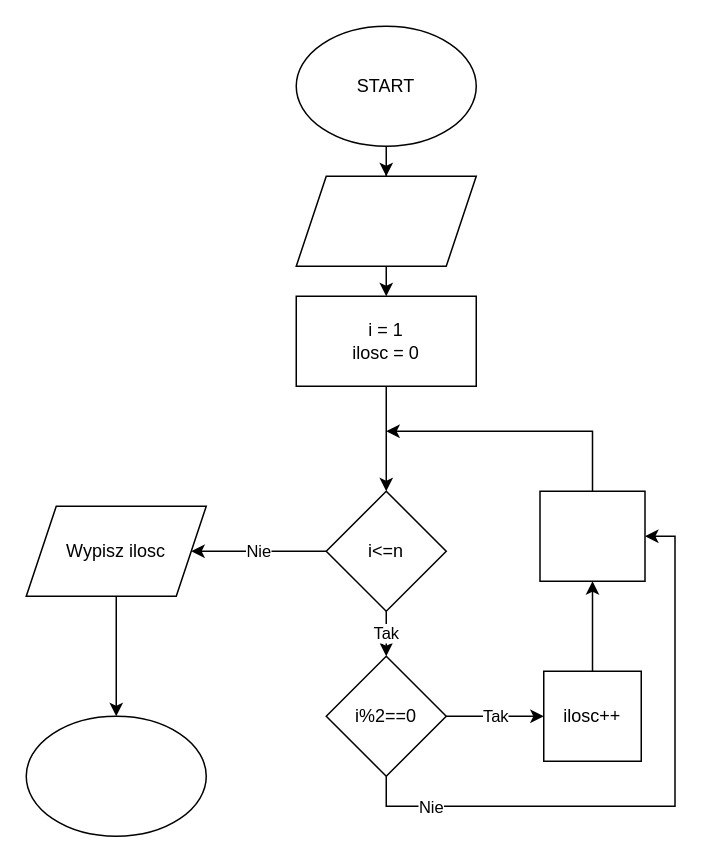
The diagram is 714 pixels wide and 863 high, and some of its shapes have lost their labels. Here are the shapes that lost their labels. From the top down, the centre of each, then its label:
[385,220]: Podaj n
[591,535]: i++
[115,775]: STOP
